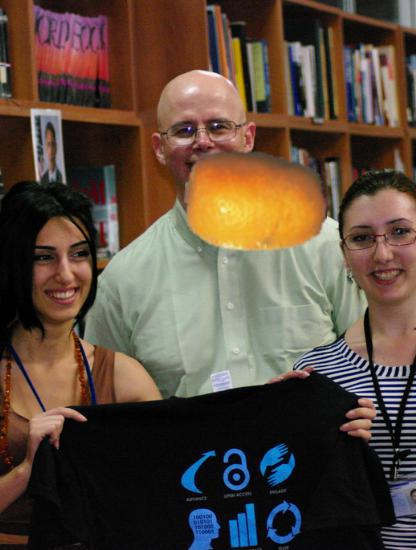Kumquats: (184, 130, 328, 274)
